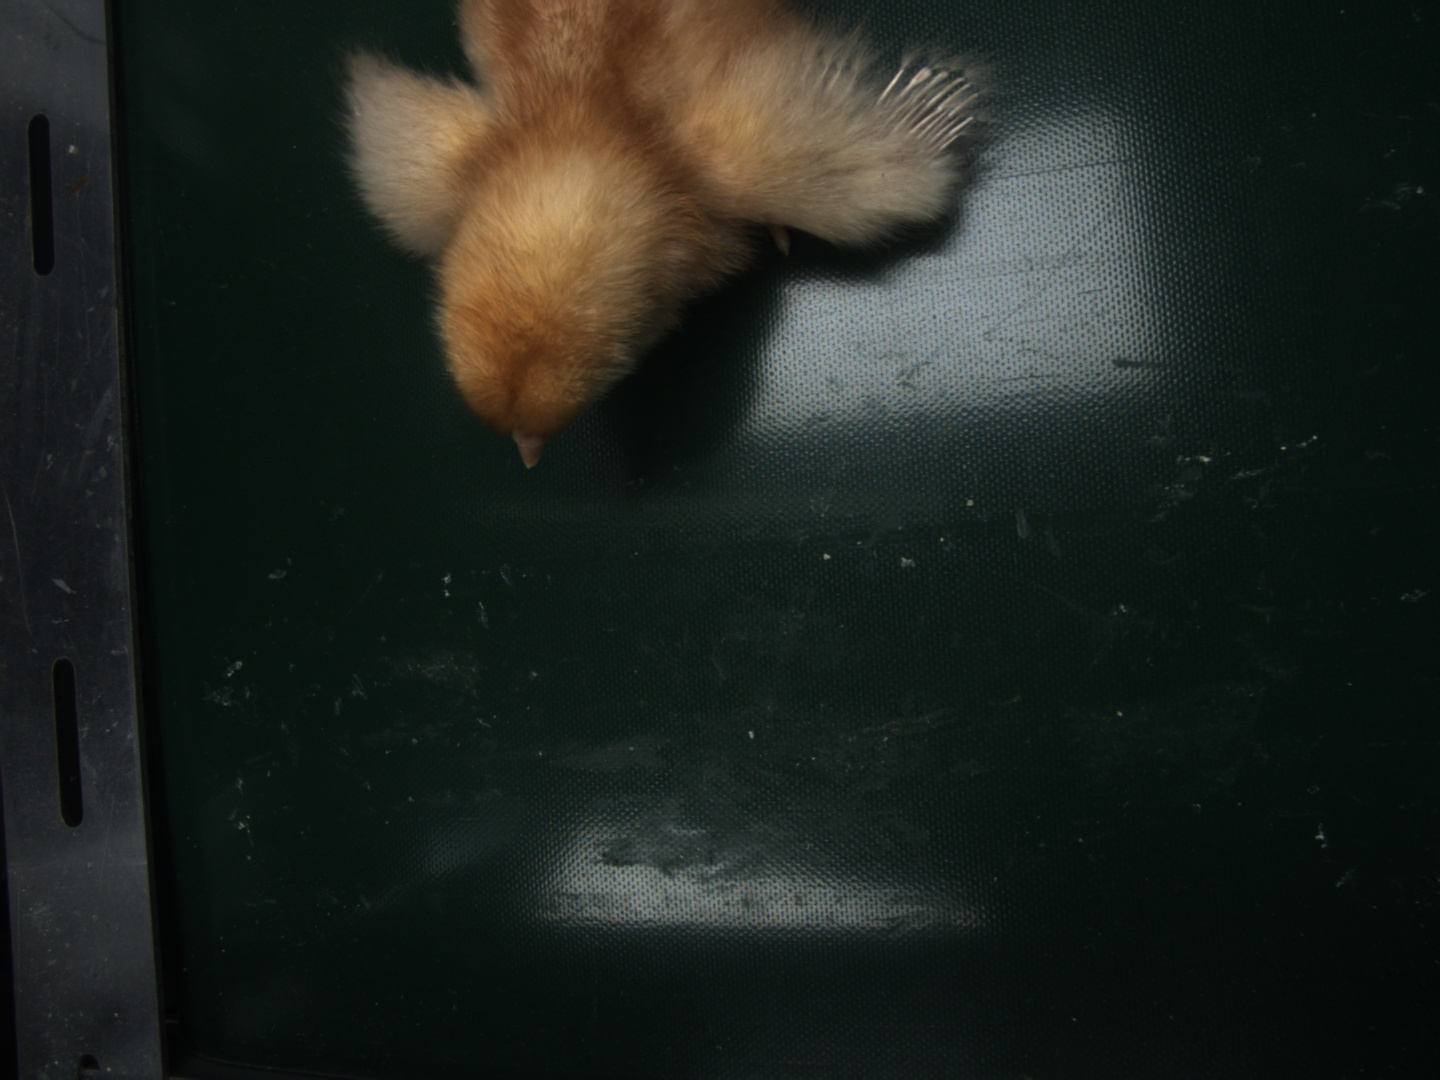female: (874, 66, 979, 162)
